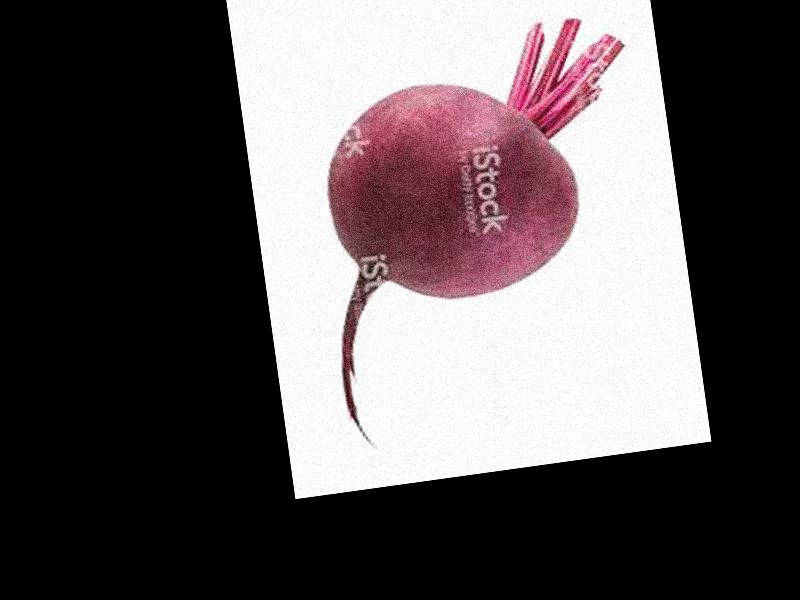Beet: (300, 10, 673, 450)
